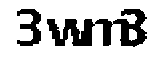3: (12, 6, 43, 48), (131, 5, 153, 50)
m: (87, 14, 129, 54)
w: (45, 14, 87, 50)
